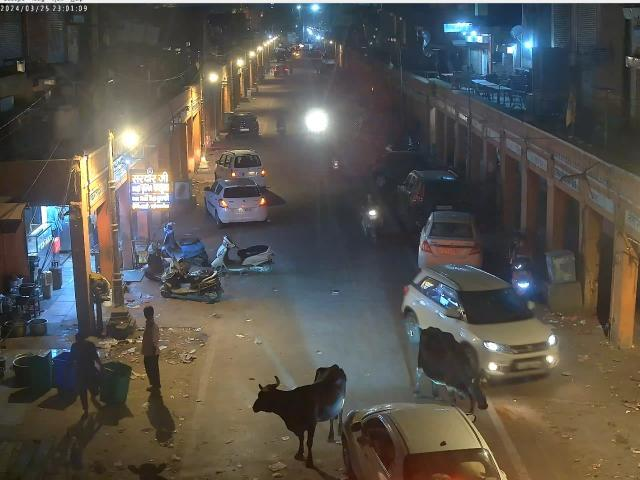car: (402, 264, 558, 388), (341, 398, 507, 480), (394, 168, 469, 228), (415, 209, 483, 269), (203, 178, 268, 227), (212, 149, 266, 186)
cattle: (251, 363, 348, 467), (413, 326, 490, 416)
license_plate: (517, 360, 543, 370), (441, 248, 463, 255), (238, 208, 252, 212)
no_helmet: (366, 192, 372, 201)
person: (66, 331, 108, 416), (138, 304, 166, 394)
scooty: (158, 257, 222, 304), (210, 233, 274, 278), (140, 238, 200, 282), (160, 220, 208, 263)
scooty-rider: (358, 189, 386, 243)
